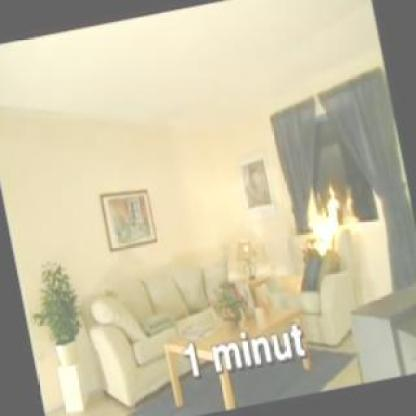Fire: (298, 178, 352, 260)
